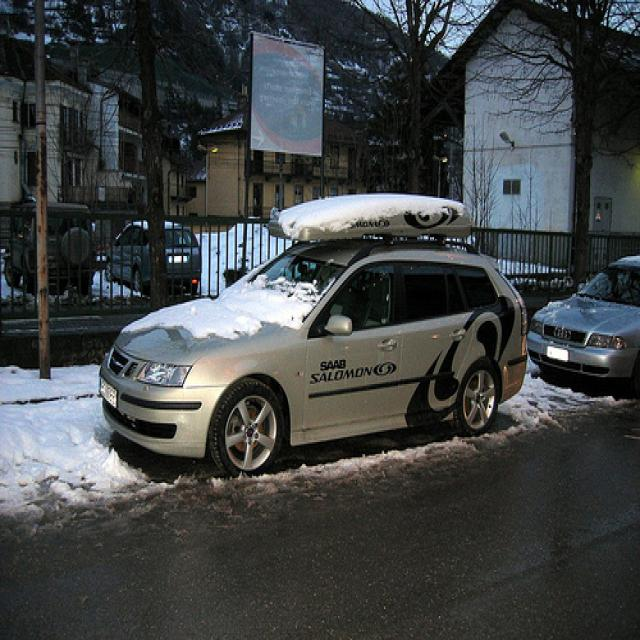car: (97, 194, 528, 480), (527, 254, 640, 401), (5, 199, 98, 296), (103, 219, 202, 293)
